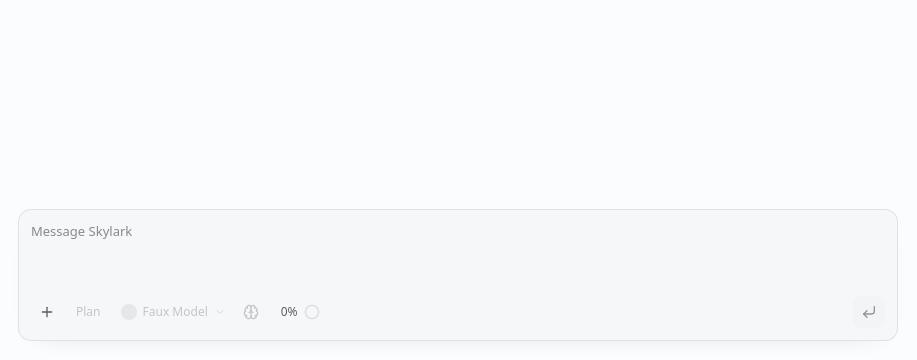
Test case: ChatWorkbench › opens the shared composer suggestion panel with workspace files when at is typed
The width and height of the screenshot is (917, 360).
Type "@" into the text box labelled "Message Skylark".
click(458, 250); type("@")  # box [19,210,897,290]
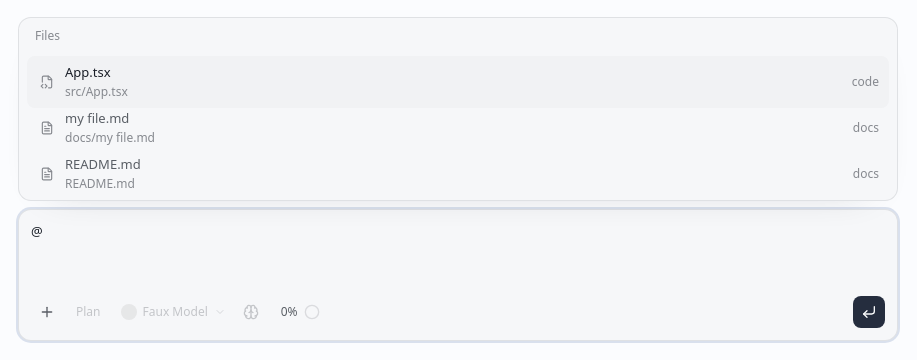
Expected: the list named "Composer suggestions" is shown, [18,17,898,201]
Expected: the text "App.tsx" is shown, [65,63,111,81]
Expected: the text "docs/my file.md" is shown, [65,129,155,146]
